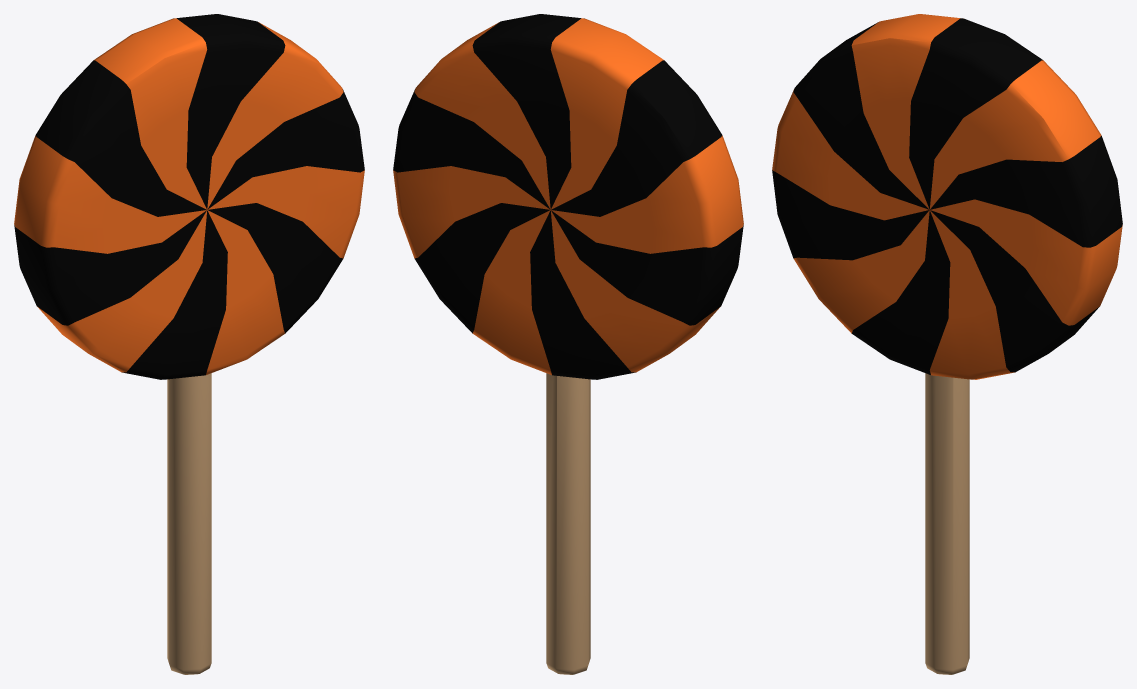
Rendered from lollipopB.glb.
3 renders of one model, left to right at view 1: azimuth 30°, elevation 25°; view 2: azimuth 150°, elevation 25°; view 3: azimuth 330°, elevation 25°, orthographic.
Parts seen in each view (by area): view 1: lollipopB; view 2: lollipopB; view 3: lollipopB.
Boxes of the visible parts, x1,y1,x2,y2 form: lollipopB: (14,14,364,674); lollipopB: (393,14,743,674); lollipopB: (772,14,1122,674).
Size of the model in its own units: 0.2058 by 0.3901 by 0.0392.
